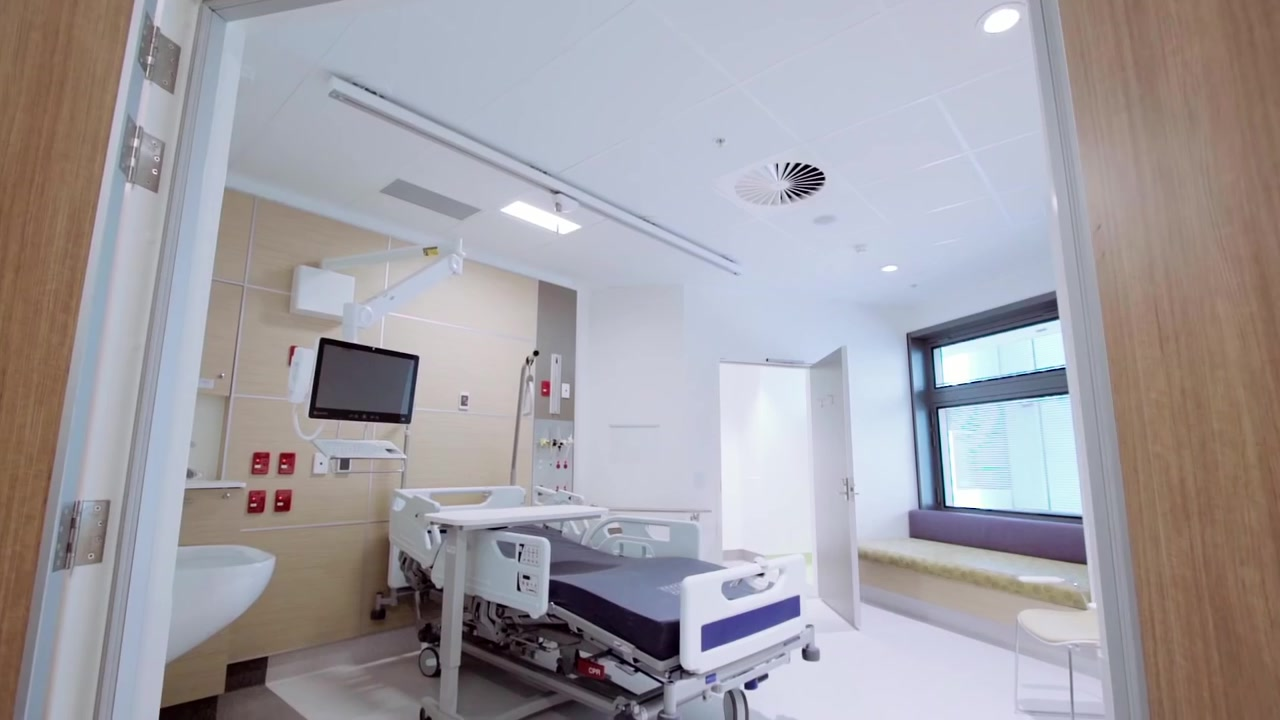bedrail: (431, 528, 551, 618), (582, 516, 699, 560), (388, 491, 440, 569), (530, 486, 587, 524)
bedside_monitor: (309, 337, 419, 424)
chair: (1013, 606, 1097, 720)
door_handle: (834, 487, 846, 497)
foot_board: (679, 555, 819, 675)
hospital_bed: (388, 484, 819, 720)
iv_pole: (510, 349, 541, 484), (397, 427, 415, 490)
overbed_table: (420, 503, 609, 720)
sink: (164, 545, 277, 667)
sofa: (855, 507, 1086, 629)
